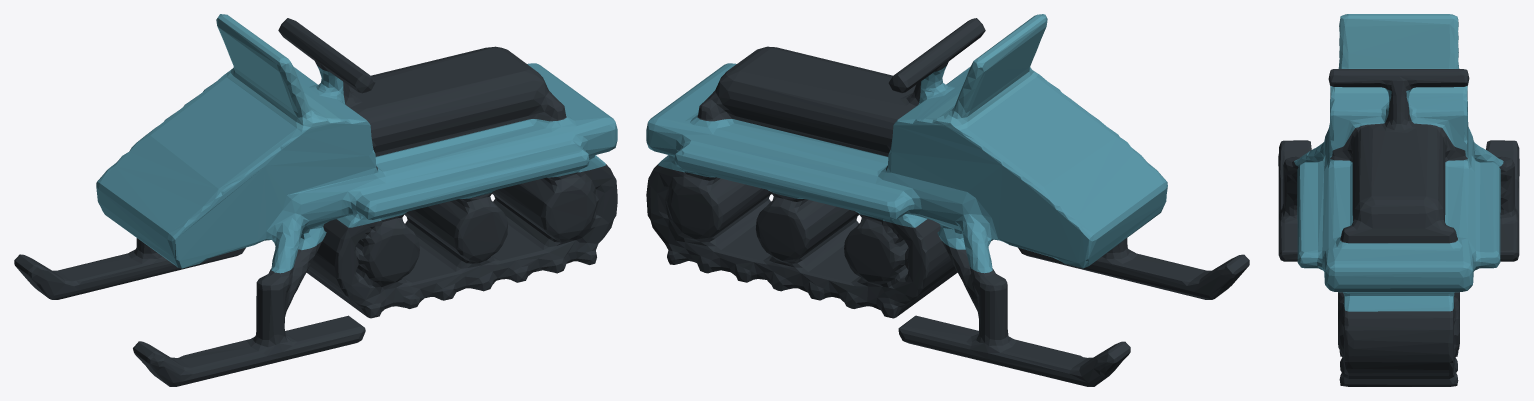
File: NEW_RECOVERY_111_LOD1.fbx
3 renders of one model, left to right at view 1: azimuth 30°, elevation 25°; view 2: azimuth 150°, elevation 25°; view 3: azimuth 270°, elevation 25°, orthographic. The views are drawn at different scales.
Parts seen in each view (by area): view 1: Snowmobile_Static_Fused; view 2: Snowmobile_Static_Fused; view 3: Snowmobile_Static_Fused.
Boxes of the visible parts, <box> form: Snowmobile_Static_Fused: <box>14,14,617,386</box>; Snowmobile_Static_Fused: <box>646,14,1249,386</box>; Snowmobile_Static_Fused: <box>1278,14,1519,386</box>.
Size of the model in its own units: 333 by 158 by 175.
